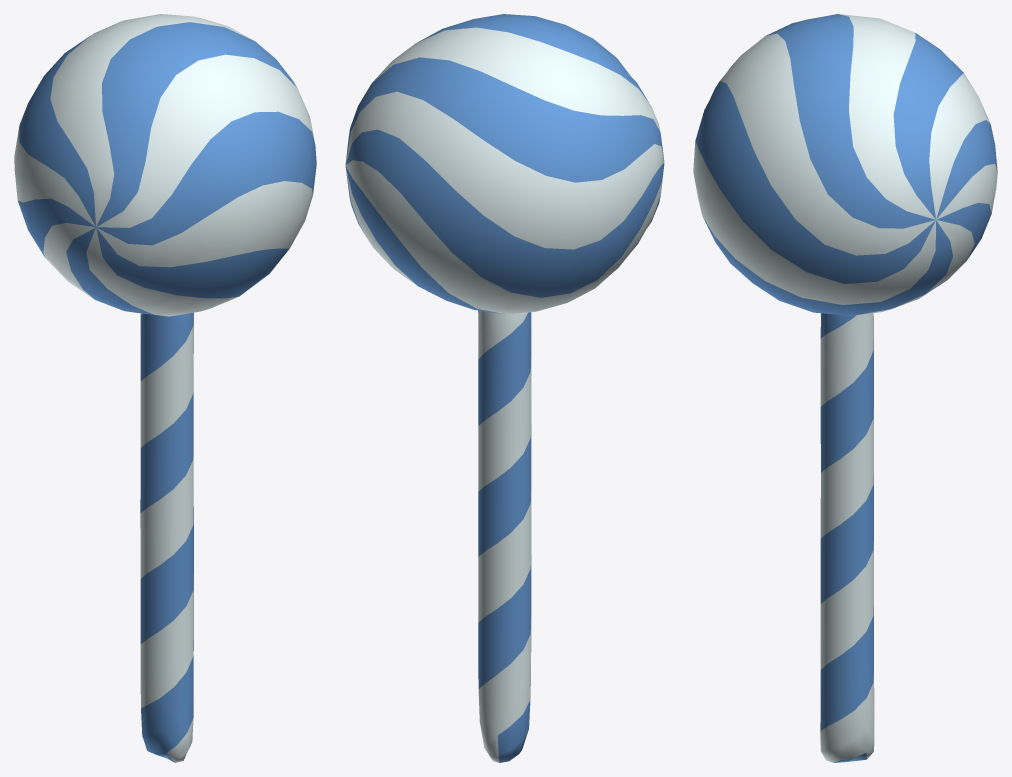
The model's file is Lolly_B_01.fbx.
3 renders of one model, left to right at view 1: azimuth 30°, elevation 25°; view 2: azimuth 150°, elevation 25°; view 3: azimuth 270°, elevation 25°, orthographic.
Visible parts, largest first — view 1: Lolly_B_01_LOD0; view 2: Lolly_B_01_LOD0; view 3: Lolly_B_01_LOD0.
Boxes of the visible parts, x1,y1,x2,y2 form: Lolly_B_01_LOD0: [14, 14, 316, 762]; Lolly_B_01_LOD0: [345, 14, 664, 762]; Lolly_B_01_LOD0: [693, 14, 997, 762].
Size of what is drawn, in the model's own units: 428 by 1109 by 418.
